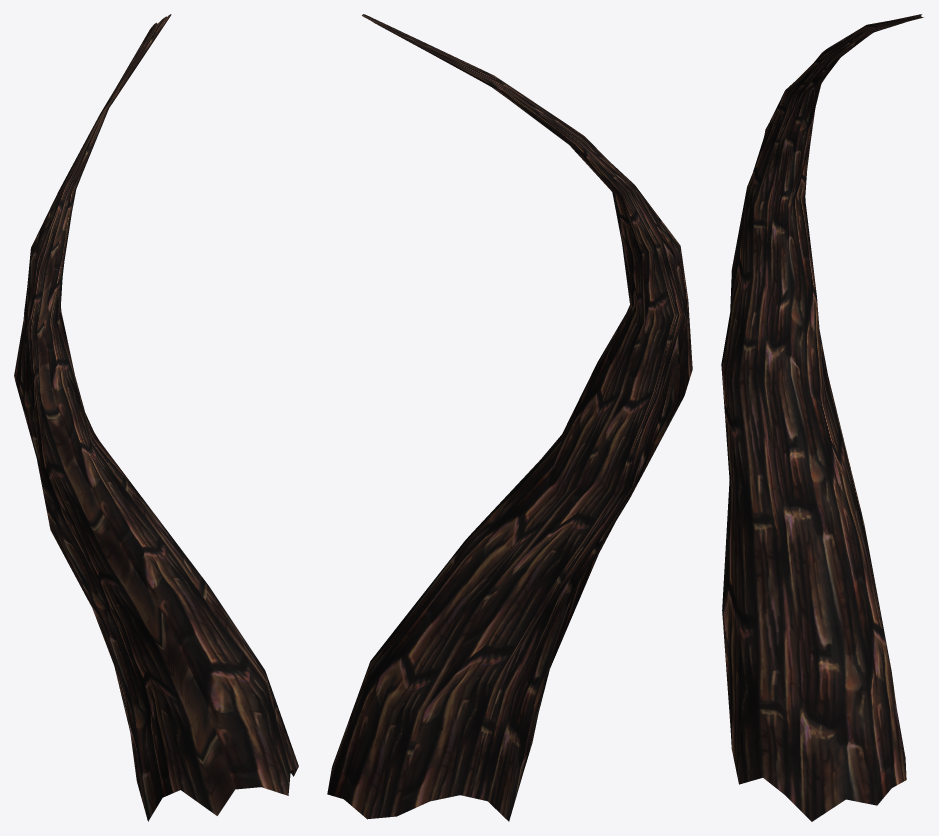
The model's file is tree_02.FBX.
The picture shows the model from 3 angles, left to right: view 1: azimuth 30°, elevation 25°; view 2: azimuth 150°, elevation 25°; view 3: azimuth 270°, elevation 25°; orthographic projection. The views are drawn at different scales.
Visible parts, largest first — view 1: t_02; view 2: t_02; view 3: t_02.
Boxes of the visible parts, x1,y1,x2,y2 form: t_02: (14,14,298,821); t_02: (327,14,692,821); t_02: (721,14,923,821).
Size of the model in its own units: 26.52 by 65.07 by 15.39.
